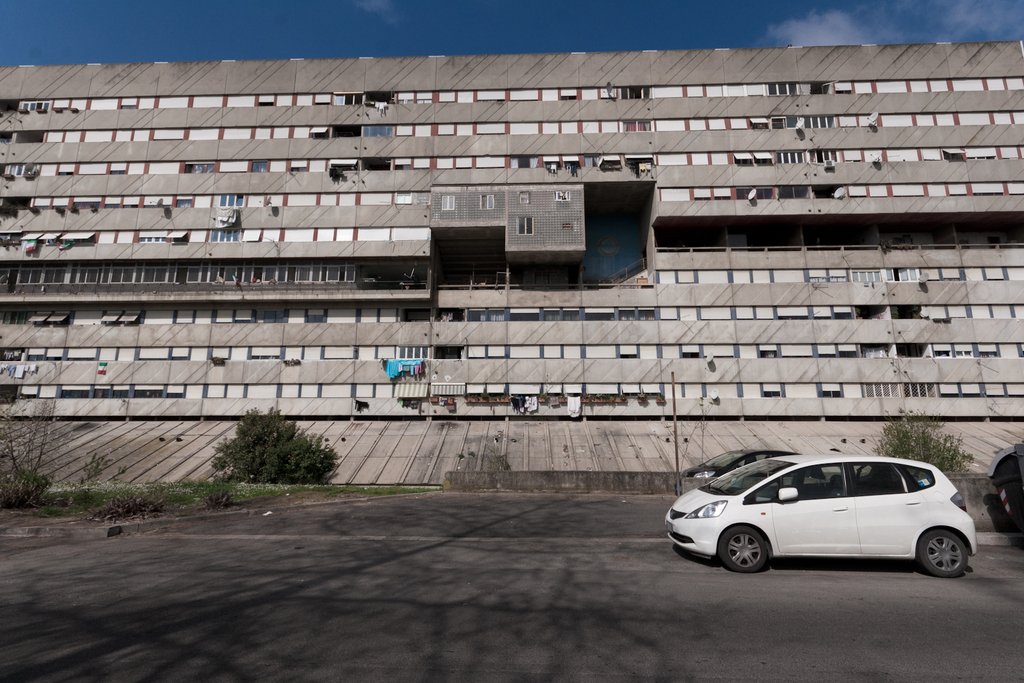Car: (656, 454, 987, 582)
